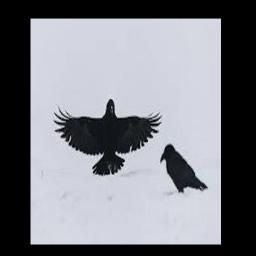Crow: (53, 98, 161, 176), (160, 143, 208, 192)
